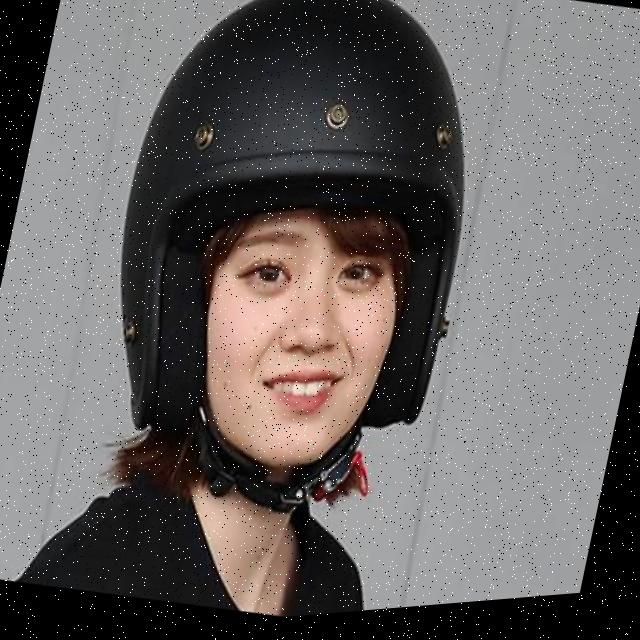helmet: (55, 0, 532, 573)
